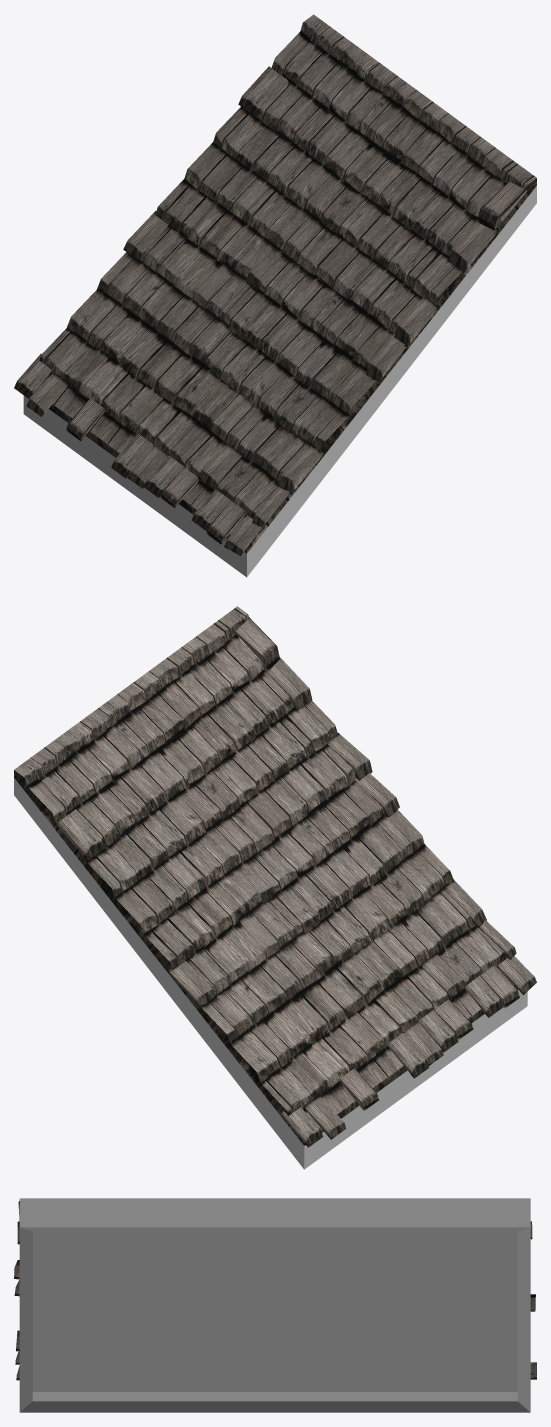
The model's file is Roof_45_mdl.fbx.
The picture shows the model from 3 angles, top to bottom: view 1: azimuth 30°, elevation 25°; view 2: azimuth 150°, elevation 25°; view 3: azimuth 270°, elevation 25°; orthographic projection. The views are drawn at different scales.
Visible parts, largest first — view 1: Roof_45_mdl; view 2: Roof_45_mdl; view 3: Roof_45_mdl.
Part boxes in pixels (x1,y1,x2,y2): Roof_45_mdl: (14,14,536,577); Roof_45_mdl: (14,606,536,1169); Roof_45_mdl: (14,1198,536,1412).
Size of the model in its own units: 312 by 325 by 409.
